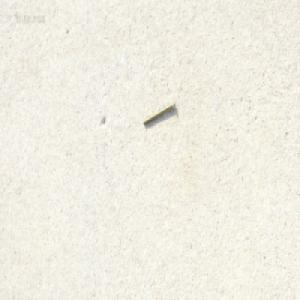Bolt: (142, 99, 175, 126)
